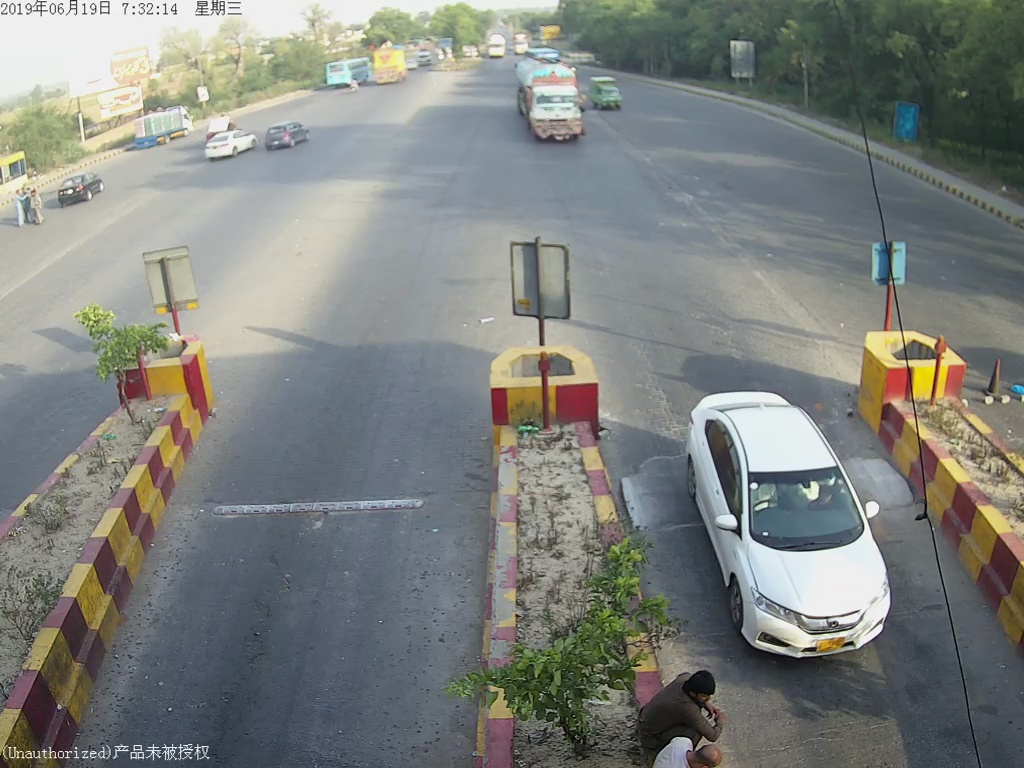Cat-1: (690, 390, 902, 663)
Cat-5: (510, 52, 588, 147)
